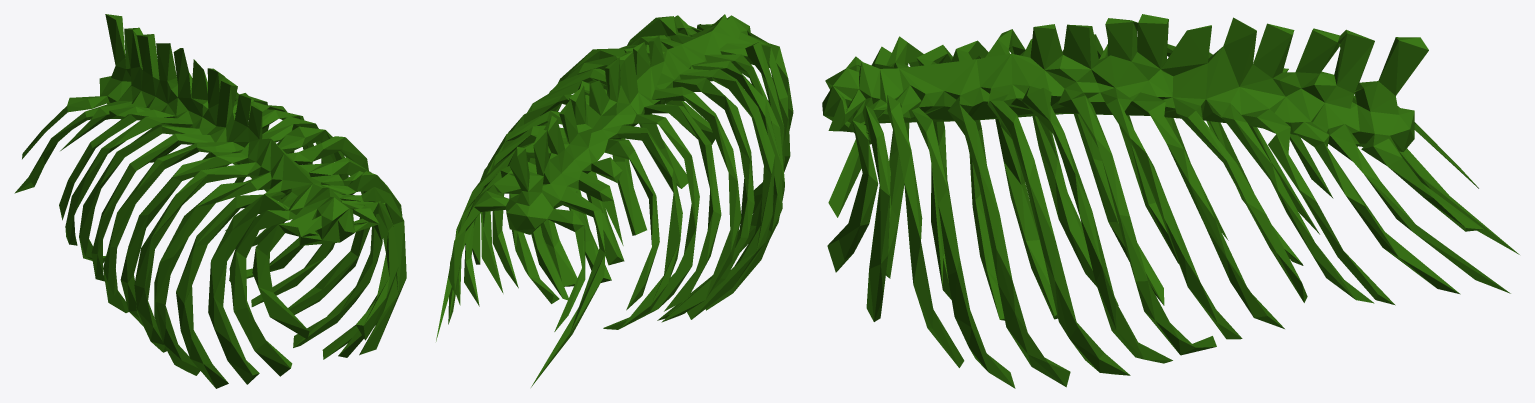
File: SkeletonsRibs.fbx
The picture shows the model from 3 angles, left to right: view 1: azimuth 30°, elevation 25°; view 2: azimuth 150°, elevation 25°; view 3: azimuth 270°, elevation 25°; orthographic projection. The views are drawn at different scales.
Visible parts, largest first — view 1: SkeletonsRibs; view 2: SkeletonsRibs; view 3: SkeletonsRibs.
Part boxes in pixels (box(x1,y1,x2,y2)): SkeletonsRibs: box(14, 14, 406, 388); SkeletonsRibs: box(436, 14, 793, 387); SkeletonsRibs: box(822, 14, 1519, 388).
Bounding box in the file's own units: 169 × 177 × 328.
